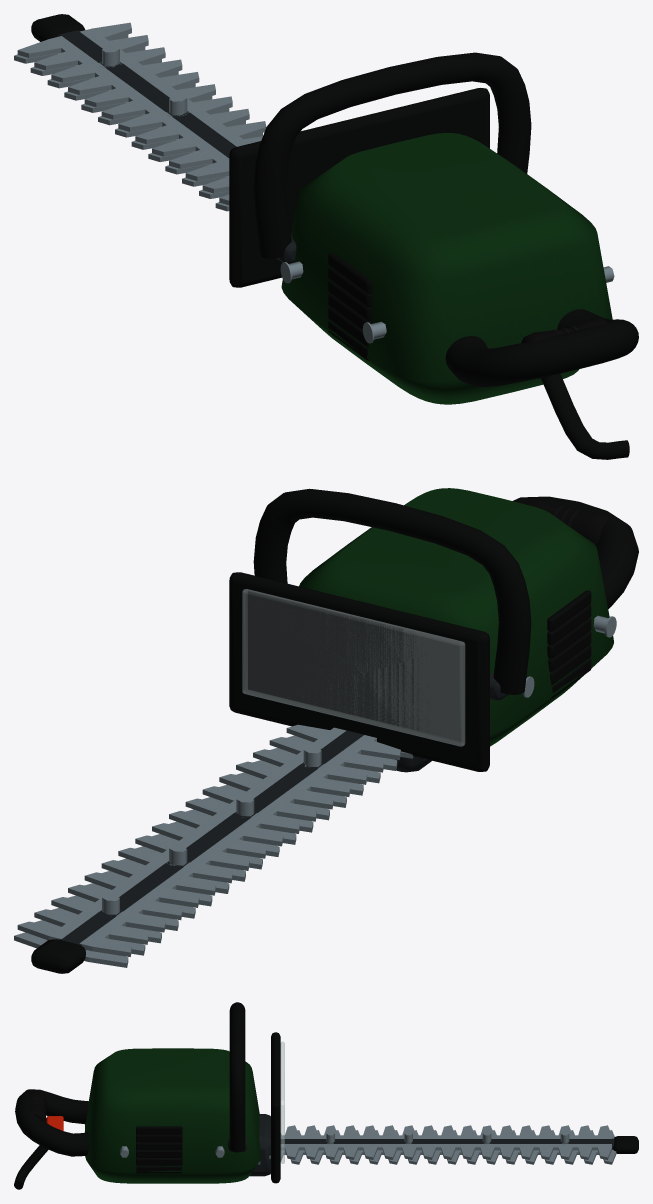
The model's file is ElectricHedgeTrimmer.gltf.
3 renders of one model, top to bottom at view 1: azimuth 30°, elevation 25°; view 2: azimuth 150°, elevation 25°; view 3: azimuth 270°, elevation 25°, orthographic. The views are drawn at different scales.
Visible parts, largest first — view 1: ElectricHedgeTrimmer__Body; view 2: ElectricHedgeTrimmer__Body, ElectricHedgeTrimmer__Glass_HandGuard; view 3: ElectricHedgeTrimmer__Body, ElectricHedgeTrimmer__Glass_HandGuard.
Part boxes in pixels (x1,y1,x2,y2): ElectricHedgeTrimmer__Body: [14, 14, 638, 459]; ElectricHedgeTrimmer__Body: [14, 488, 638, 973]; ElectricHedgeTrimmer__Glass_HandGuard: [242, 589, 465, 746]; ElectricHedgeTrimmer__Body: [14, 1002, 638, 1189]; ElectricHedgeTrimmer__Glass_HandGuard: [280, 1041, 284, 1163].
Bounding box in the file's own units: 0.308 × 0.2809 × 1.04.
Materials: 2 (1 with a texture image).
